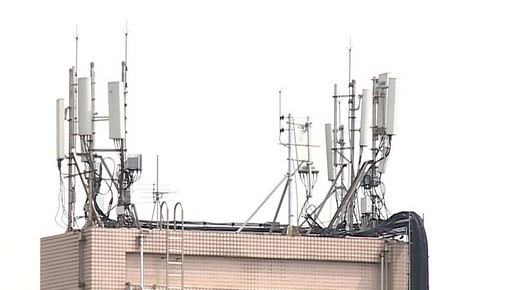a: (290, 112, 321, 182), (106, 78, 127, 141), (75, 75, 95, 138), (324, 121, 339, 183), (359, 85, 372, 150), (387, 75, 400, 137), (54, 96, 66, 163)
